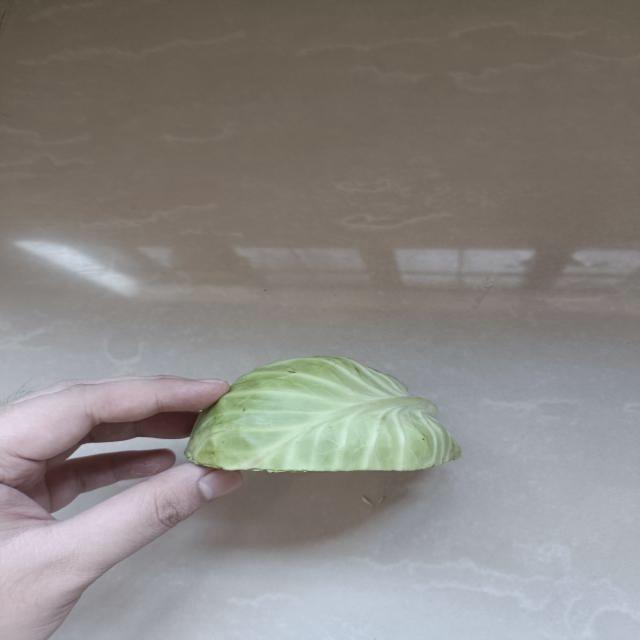cabbage: (186, 355, 462, 476)
